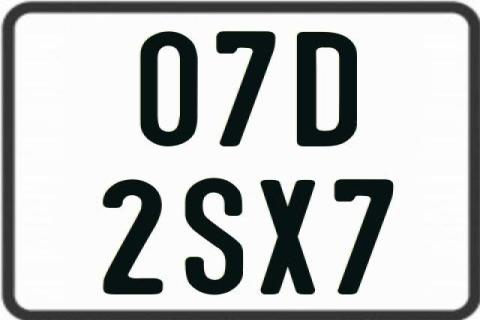0: (103, 178, 167, 298), (334, 179, 398, 295), (216, 30, 277, 148), (137, 32, 195, 152)
D: (296, 32, 359, 150)
S: (184, 176, 243, 294)
X: (258, 180, 314, 296)
